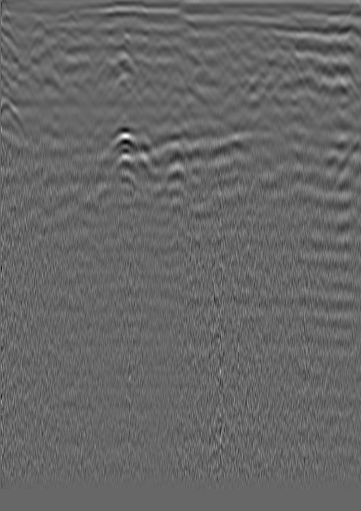가스: (99, 128, 139, 168)
상수: (27, 18, 47, 38)
오수: (319, 15, 339, 35)
우수: (161, 14, 181, 34)
